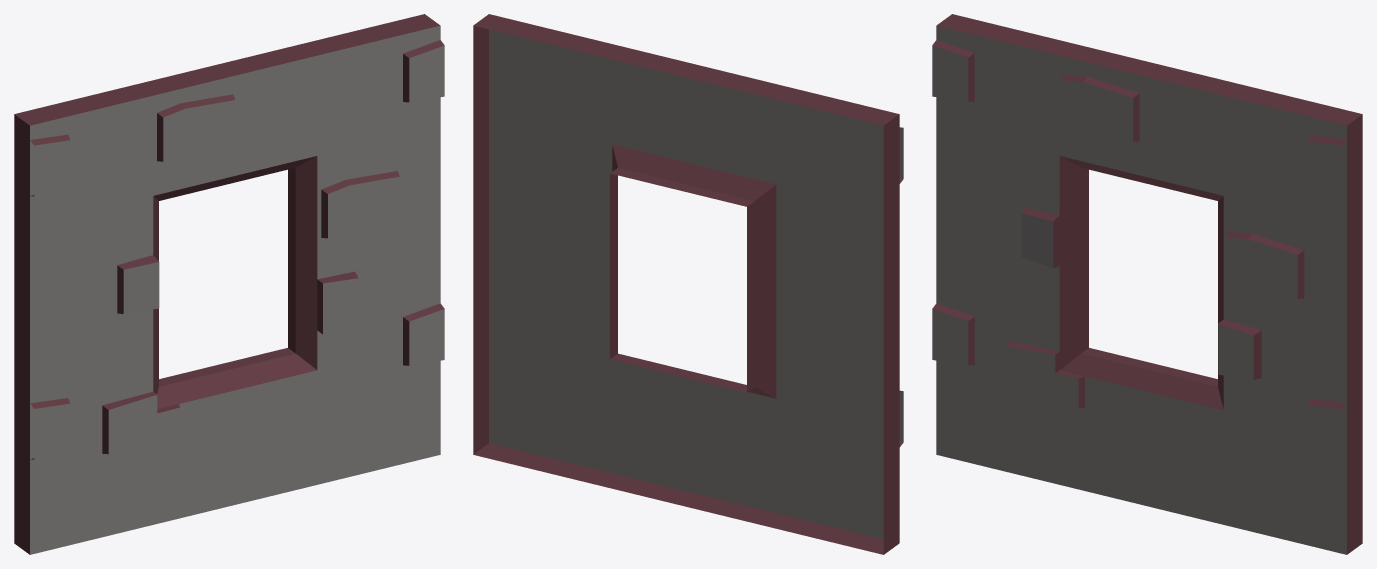
The model's file is wall-stone-window-3x3m-c.fbx.
3 views of the same model, side by side, from view 1: azimuth 30°, elevation 25°; view 2: azimuth 150°, elevation 25°; view 3: azimuth 330°, elevation 25° (orthographic).
Parts seen in each view (by area): view 1: wall-stone-window-3x3m-c; view 2: wall-stone-window-3x3m-c; view 3: wall-stone-window-3x3m-c.
Part boxes in pixels (box(x1,y1,x2,y2)): wall-stone-window-3x3m-c: box(14, 14, 444, 554); wall-stone-window-3x3m-c: box(473, 14, 903, 554); wall-stone-window-3x3m-c: box(932, 14, 1362, 554).
Size of the model in its own units: 3 by 3 by 0.2788.
